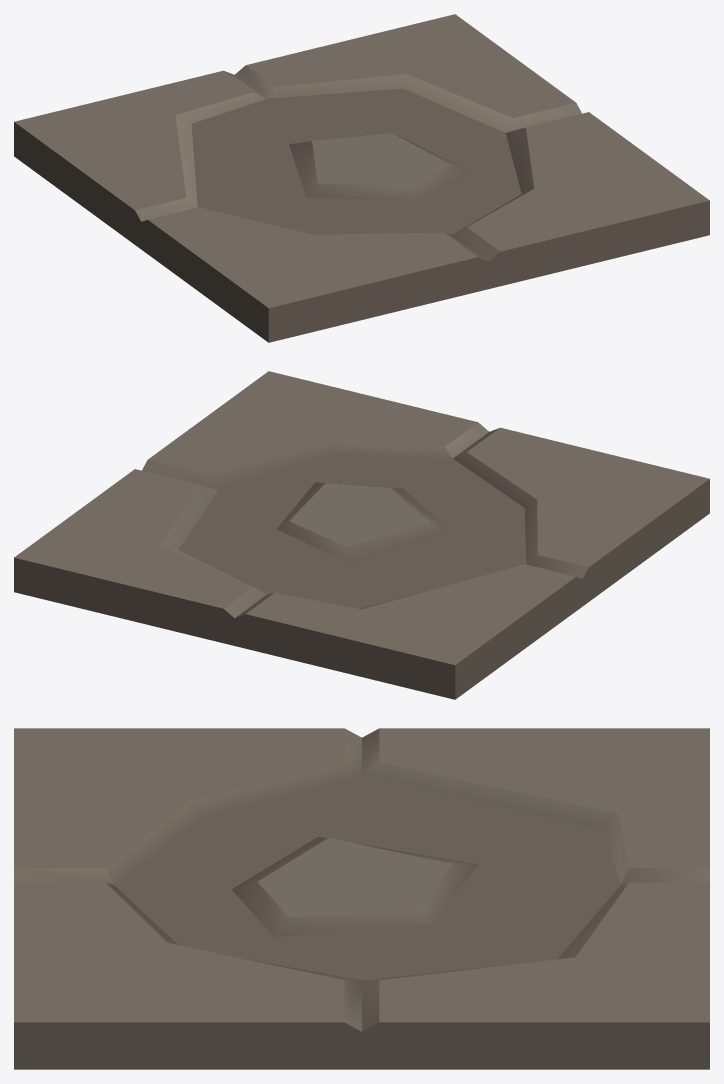
File: floor-tile-small-broken-a.glb
3 renders of one model, top to bottom at view 1: azimuth 30°, elevation 25°; view 2: azimuth 150°, elevation 25°; view 3: azimuth 270°, elevation 25°, orthographic. The views are drawn at different scales.
Visible parts, largest first — view 1: floor-tile-small-broken-a; view 2: floor-tile-small-broken-a; view 3: floor-tile-small-broken-a.
Part boxes in pixels (x1,y1,x2,y2): floor-tile-small-broken-a: [14, 14, 709, 342]; floor-tile-small-broken-a: [14, 371, 709, 699]; floor-tile-small-broken-a: [14, 728, 709, 1069].
Size of the model in its own units: 1.5 by 0.1124 by 1.5.
